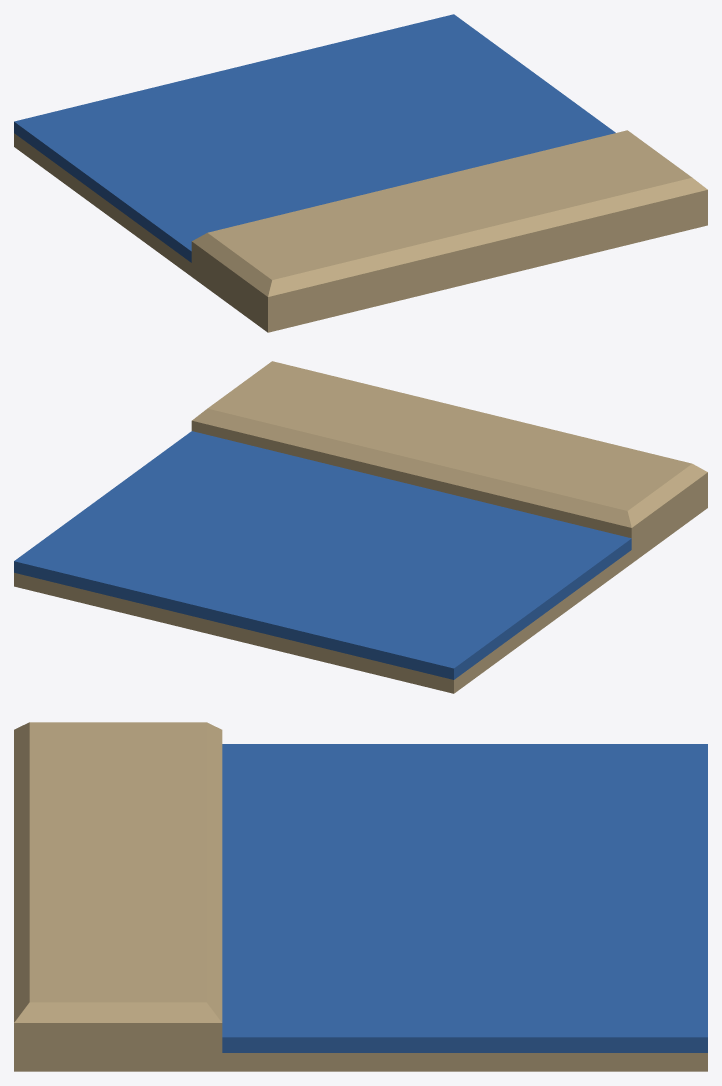
File: river_bank_sand.glb
3 views of the same model, one above another, from view 1: azimuth 30°, elevation 25°; view 2: azimuth 150°, elevation 25°; view 3: azimuth 270°, elevation 25° (orthographic). The views are drawn at different scales.
Visible parts, largest first — view 1: river_bank_sand_water, river_bank_sand_bank, river_bank_sand_bed; view 2: river_bank_sand_water, river_bank_sand_bank, river_bank_sand_bed; view 3: river_bank_sand_water, river_bank_sand_bank, river_bank_sand_bed.
Boxes of the visible parts, <box> form: river_bank_sand_water: <box>14,14,615,262</box>; river_bank_sand_bank: <box>191,130,707,332</box>; river_bank_sand_bed: <box>14,133,191,276</box>; river_bank_sand_water: <box>14,431,631,679</box>; river_bank_sand_bank: <box>191,361,707,563</box>; river_bank_sand_bed: <box>14,550,631,693</box>; river_bank_sand_water: <box>222,744,707,1052</box>; river_bank_sand_bank: <box>14,722,222,1071</box>; river_bank_sand_bed: <box>222,1053,707,1071</box>.
Bounding box in the file's own units: 2 × 0.2 × 2.
